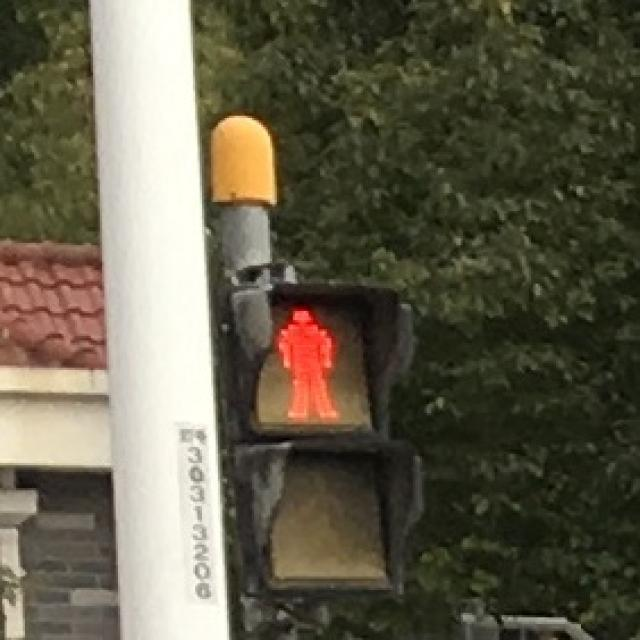red-crossing: (254, 290, 372, 426)
